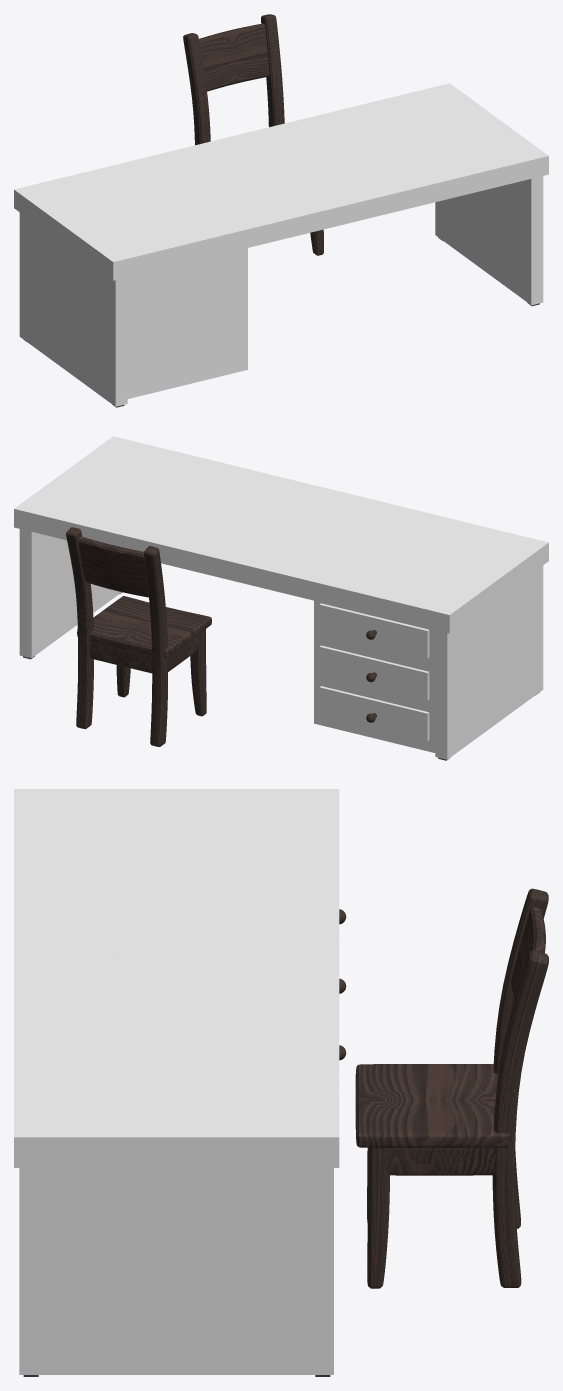
3 views of the same model, one above another, from view 1: azimuth 30°, elevation 25°; view 2: azimuth 150°, elevation 25°; view 3: azimuth 270°, elevation 25° (orthographic). The views are drawn at different scales.
Visible parts, largest first — view 1: 책상, 의자.003; view 2: 책상, 의자.003, 서랍.001; view 3: 책상, 의자.003.
Boxes of the visible parts, x1,y1,x2,y2 form: 책상: [14, 83, 548, 407]; 의자.003: [183, 14, 323, 255]; 책상: [14, 436, 548, 760]; 의자.003: [66, 527, 211, 746]; 서랍.001: [319, 603, 429, 658]; 책상: [14, 789, 346, 1376]; 의자.003: [355, 888, 548, 1288].
Size of the model in its own units: 486 by 217 by 315.
Materials: 3 (3 with a texture image).
